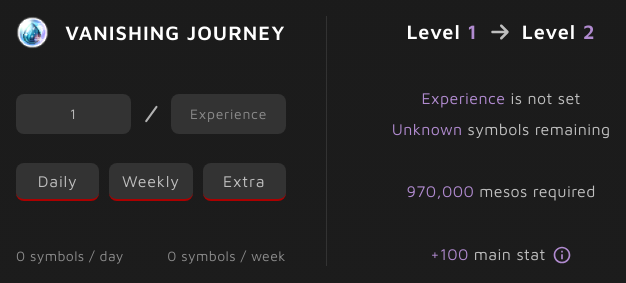
Scenario: Calculator — quests and the next-level panel › explains what is missing: experience, then quests
Expected: the text "Experience" is shown, [421,89,505,107]
Expected: the text "Unknown" is shown, [392,120,462,138]
In the number field with placeholder "Experience": (228, 114) [171,94,286,134], type "5"
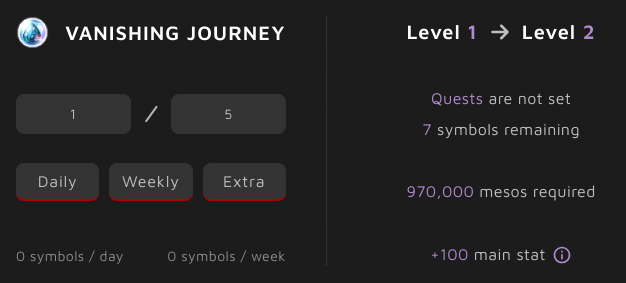
Expected: the text "Quests" is shown, [431,89,483,107]
Expected: the text "7" is shown, [422,120,432,138]
